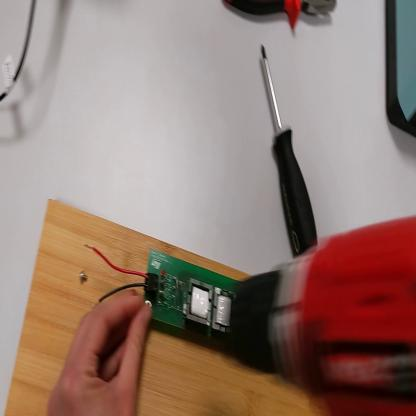electric screwdriver: (232, 212, 416, 414)
hand: (50, 285, 152, 412)
high voltage board: (82, 235, 239, 366)
pliers: (224, 1, 336, 32)
screwdriver-: (256, 43, 322, 258)
welder station: (382, 3, 416, 142)
working area: (3, 201, 349, 414)
